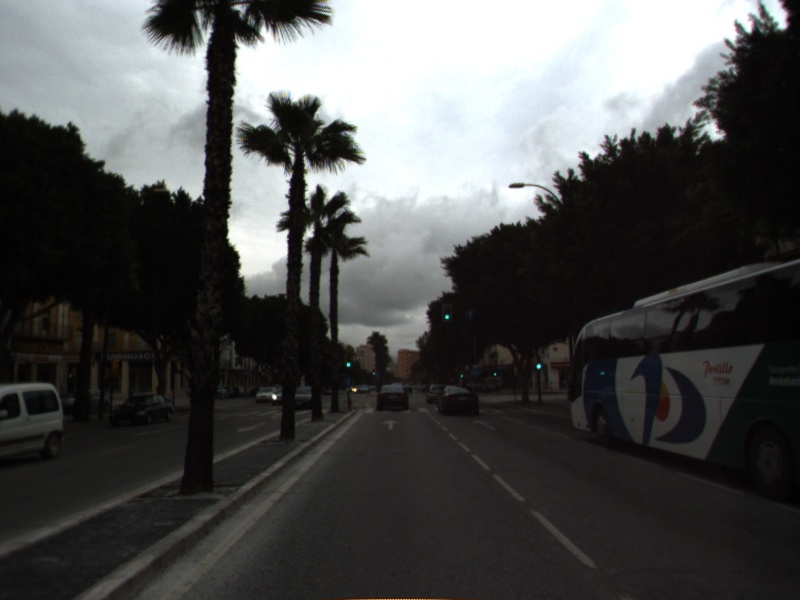STRAIGHT: (470, 417, 499, 433), (380, 417, 402, 432)
